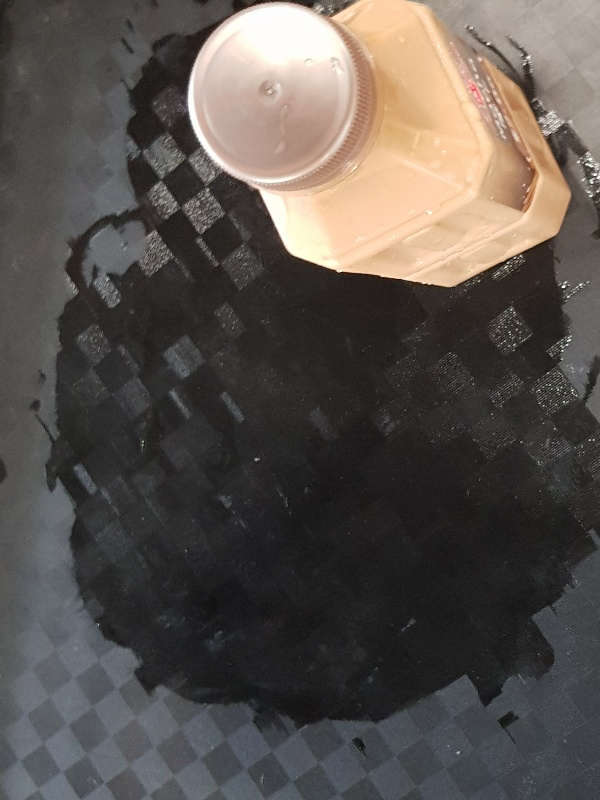Mocha: (183, 1, 572, 291)
